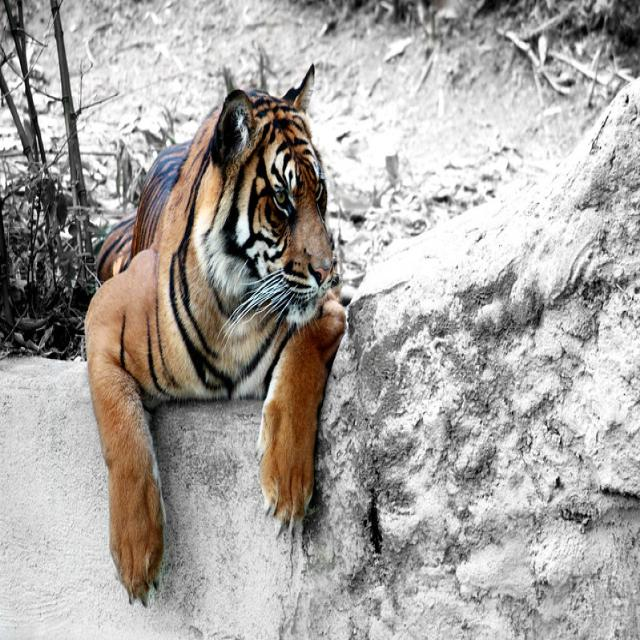Tiger: (84, 83, 345, 606)
